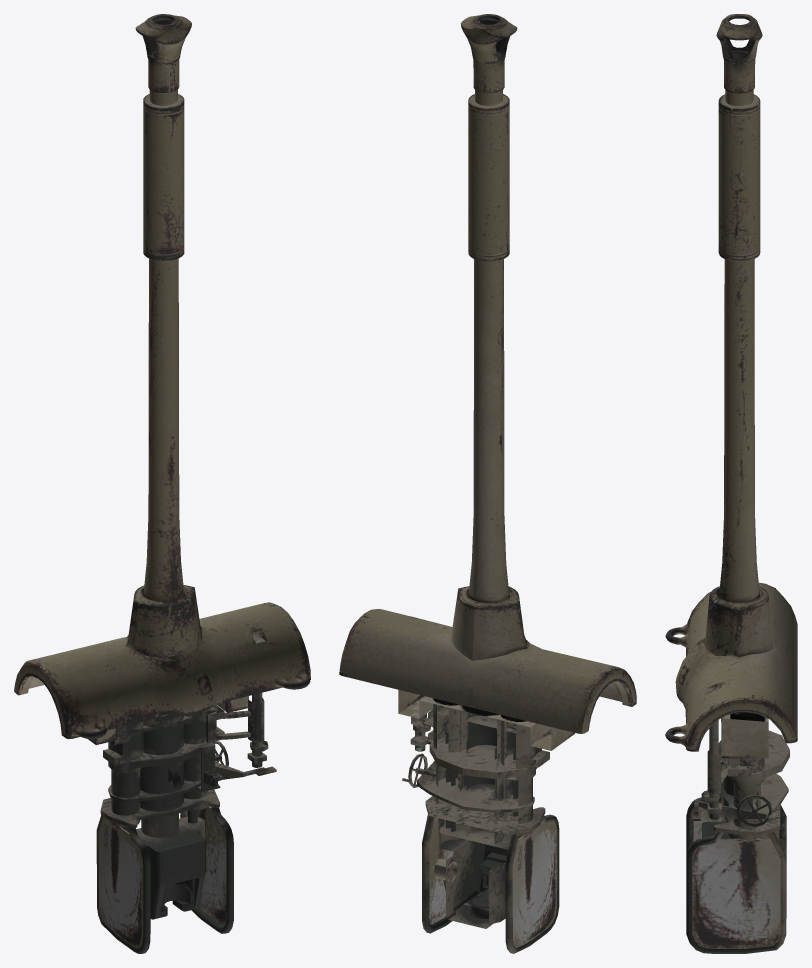
File: Gun_01.glb
The picture shows the model from 3 angles, left to right: view 1: azimuth 30°, elevation 25°; view 2: azimuth 150°, elevation 25°; view 3: azimuth 270°, elevation 25°; orthographic projection.
Parts seen in each view (by area): view 1: set_0_group_0; view 2: set_0_group_0; view 3: set_0_group_0.
Boxes of the visible parts, x1,y1,x2,y2 form: set_0_group_0: [14, 14, 310, 953]; set_0_group_0: [339, 14, 636, 953]; set_0_group_0: [665, 14, 797, 953].
Size of the model in its own units: 1.36 by 4.82 by 0.6356.
1 material, 1 textured.
